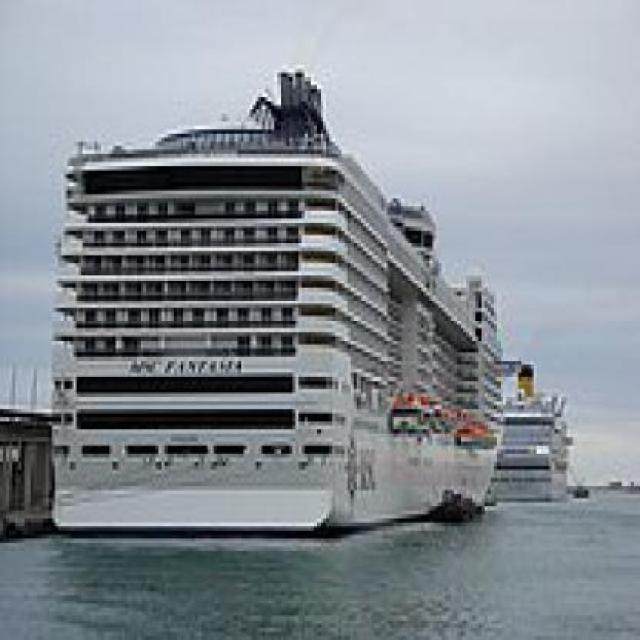cruise: (40, 62, 522, 548)
